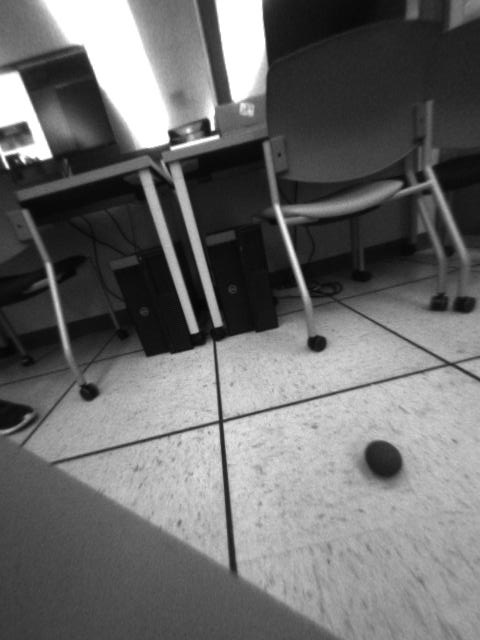dogtoy: (353, 430, 408, 487)
